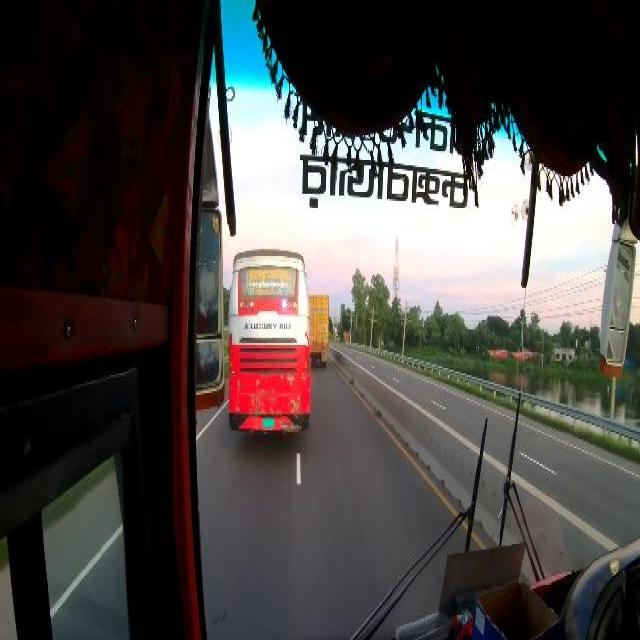bus: (228, 254, 308, 436)
truck: (310, 292, 326, 366)
